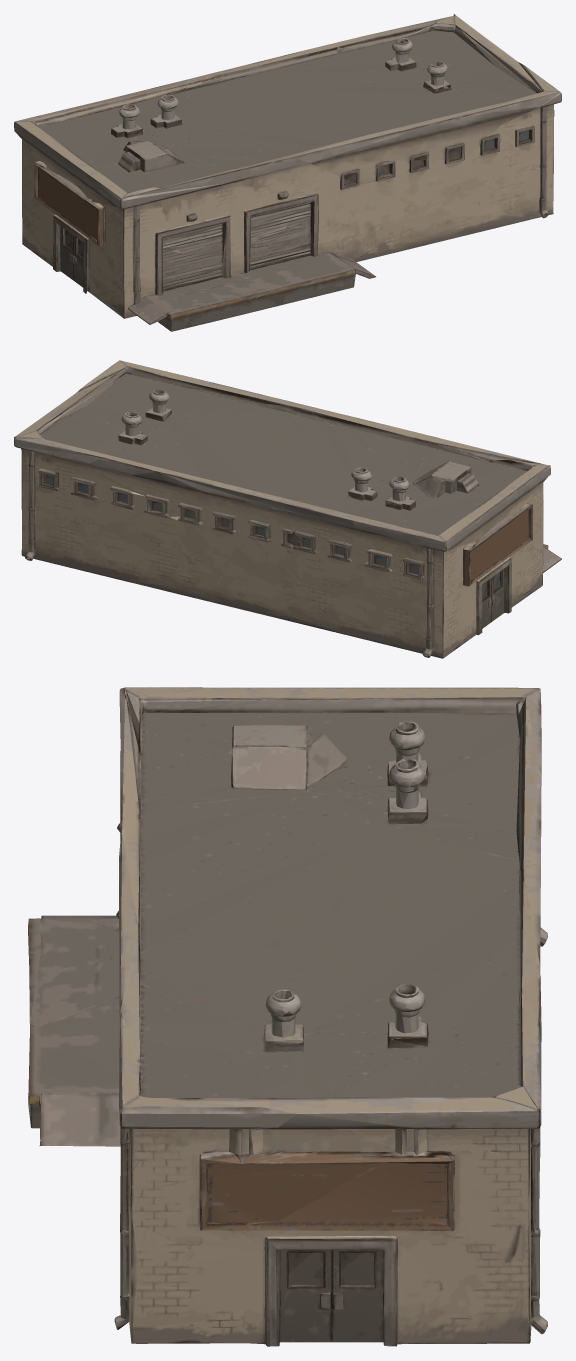
File: laundry.glb
3 renders of one model, top to bottom at view 1: azimuth 30°, elevation 25°; view 2: azimuth 150°, elevation 25°; view 3: azimuth 270°, elevation 25°, orthographic. The views are drawn at different scales.
Visible parts, largest first — view 1: placed; view 2: placed; view 3: placed.
Part boxes in pixels (box(x1,y1,x2,y2)): placed: box(14, 14, 561, 331); placed: box(14, 360, 561, 658); placed: box(28, 687, 547, 1346).
Size of the model in its own units: 24 by 7.33 by 12.38.
1 material, 1 textured.
